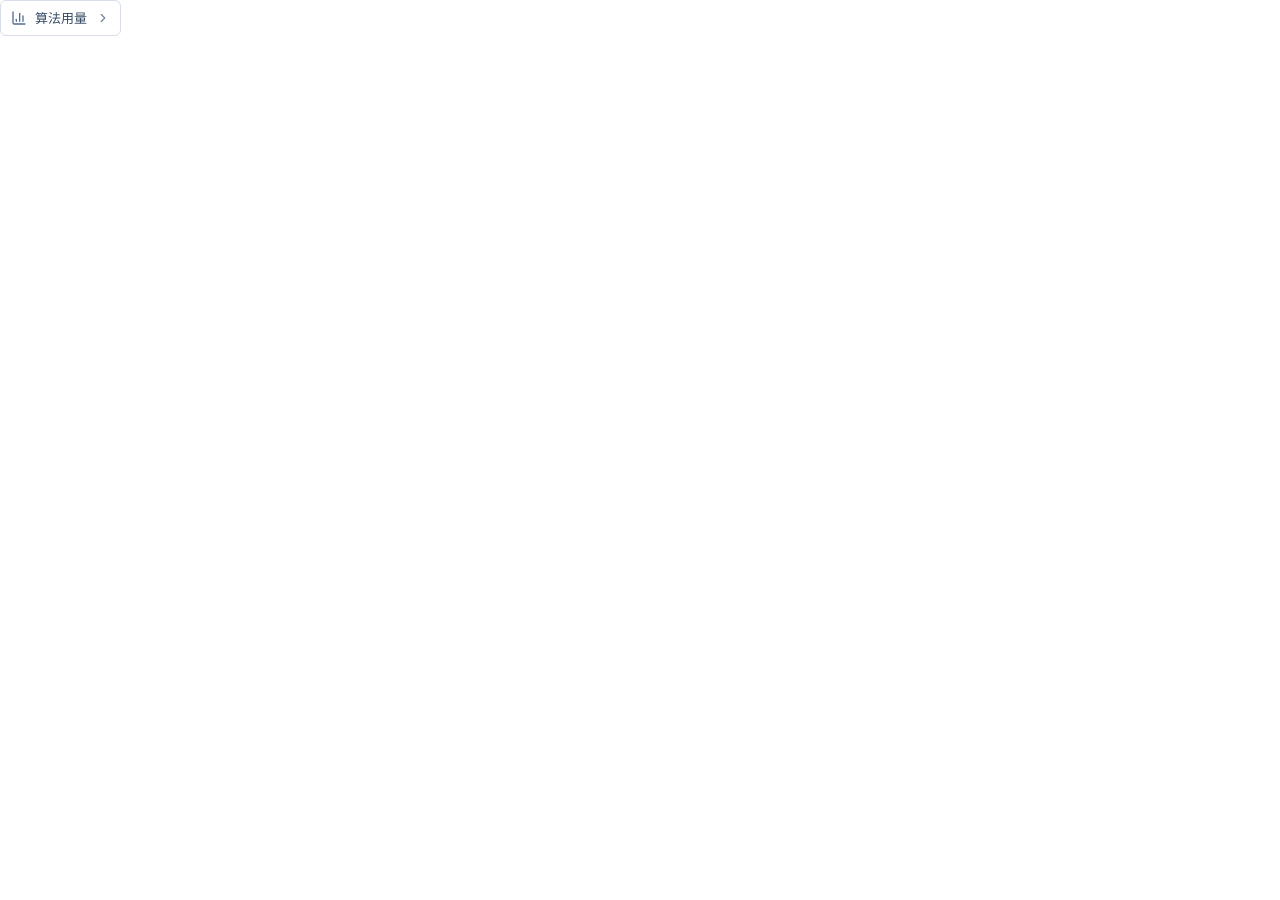
Test: shows one usage row per engine and separates the final assessment
Click the button "算法用量".
click(60, 18)  # box [0,0,121,36]
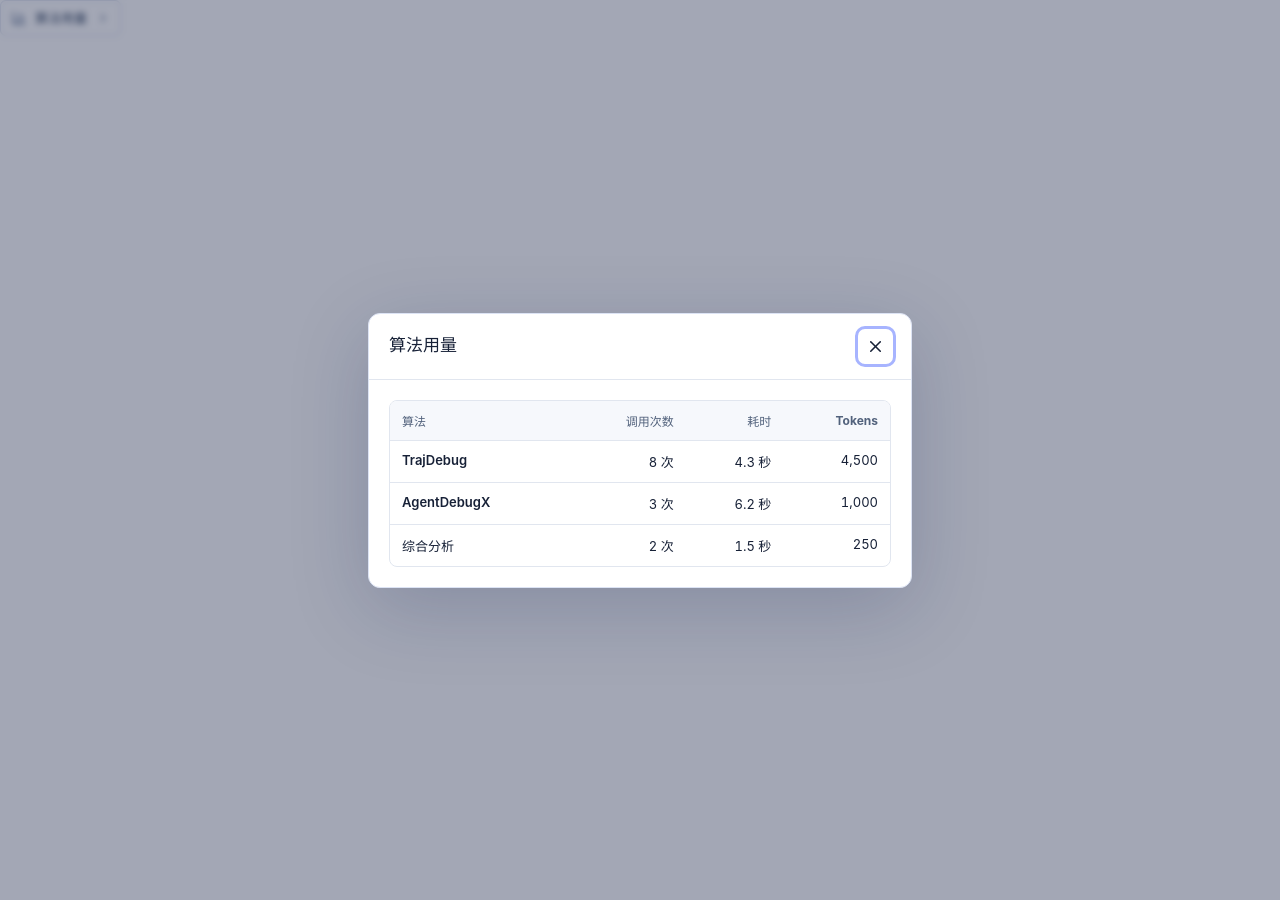
Result: the number of rows is 4 at [390,400,890,440]; [390,440,890,482]; [390,482,890,524]; [390,524,890,566]
Result: the cells read "8 次", "4.3 秒", "4,500", in this order at [570,440,686,482]; [686,440,783,482]; [783,440,890,482]
Result: the cells read "3 次", "6.2 秒", "1,000", in this order at [570,482,686,524]; [686,482,783,524]; [783,482,890,524]
Click the button named "关闭".
click(876, 346)  # box [860,330,891,362]
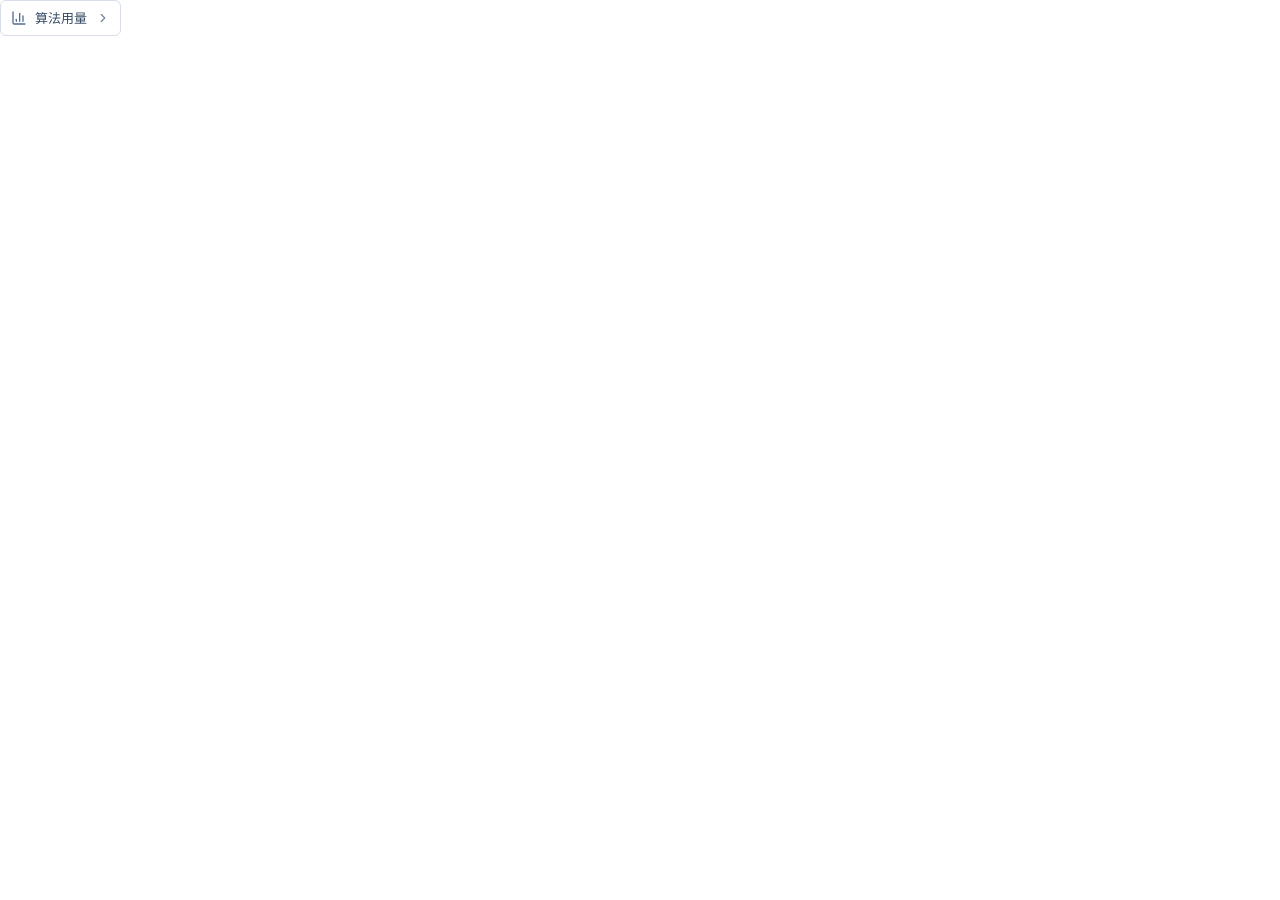
Result: the dialog is gone
